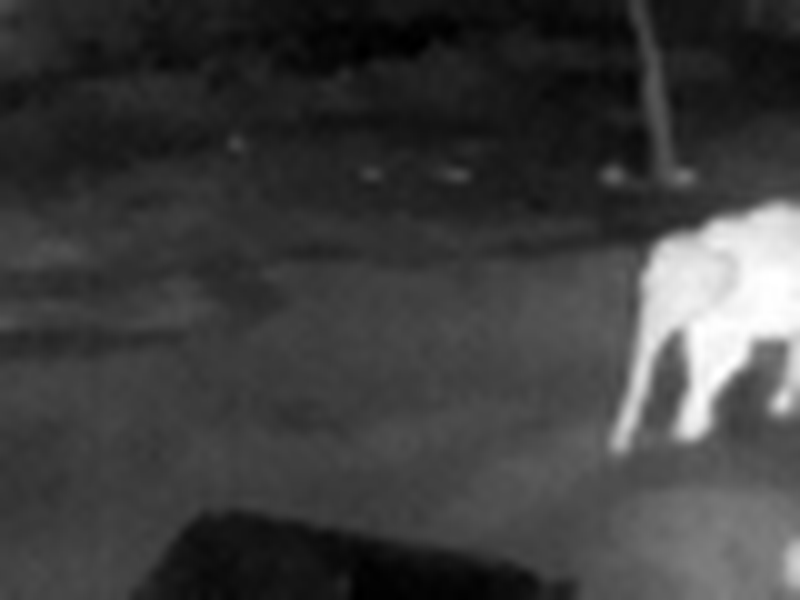elephant: (619, 215, 800, 468)
